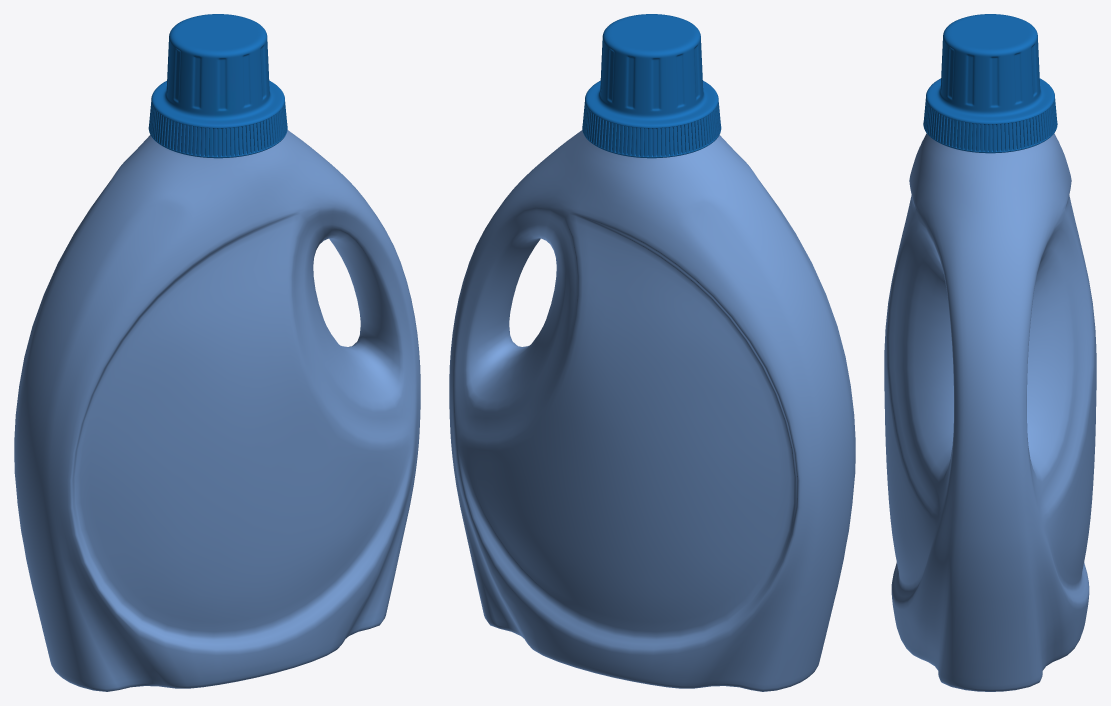
Rendered from react-detergent-BywGWfLa.glb.
The picture shows the model from 3 angles, left to right: view 1: azimuth 30°, elevation 25°; view 2: azimuth 150°, elevation 25°; view 3: azimuth 270°, elevation 25°; orthographic projection. The views are drawn at different scales.
Parts seen in each view (by area): view 1: detergent; view 2: detergent; view 3: detergent.
Boxes of the visible parts, bbox=[...] form: detergent: bbox=[14, 14, 420, 691]; detergent: bbox=[449, 14, 855, 691]; detergent: bbox=[884, 14, 1096, 691].
Size of the model in its own units: 0.1972 by 0.3002 by 0.0984.
Materials: 1 (1 with a texture image).
